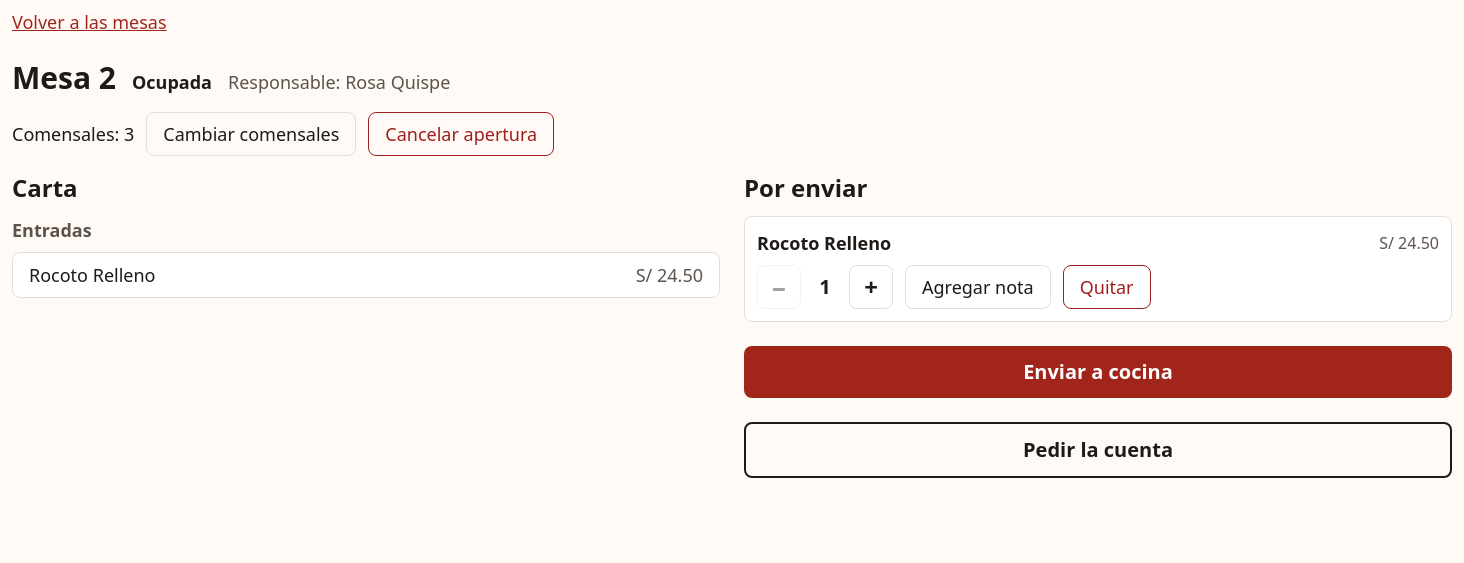
Feature 003 — pedido de una mesa (/mozo/pedidos/:orderId) › [003] AC-3.5: si un plato se agotó, no se envía y el ítem queda marcado
The width and height of the screenshot is (1464, 563).
Click the button "Enviar a cocina": (1098, 372) [744, 346, 1452, 398]
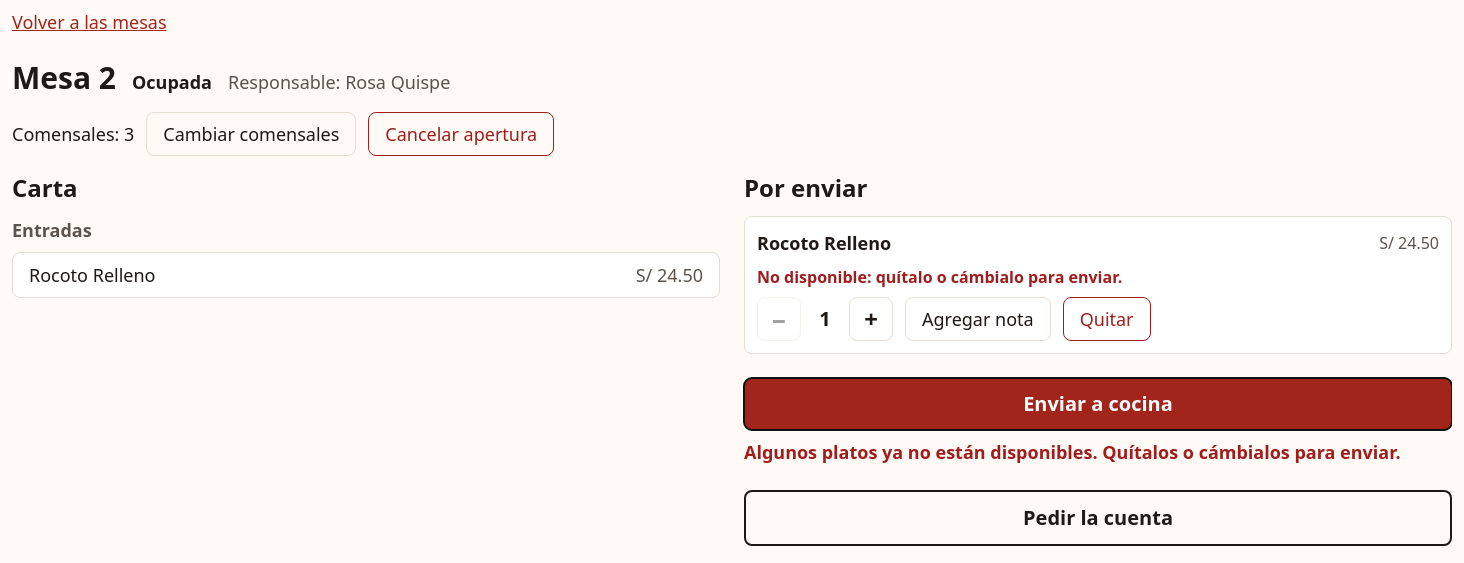
expect the text "Algunos platos ya no están disponibles. Quítalos o cámbialos para enviar." is shown: met, box [744, 438, 1452, 466]
expect the text "No disponible: quítalo o cámbialo para enviar." is shown: met, box [757, 266, 1122, 288]
